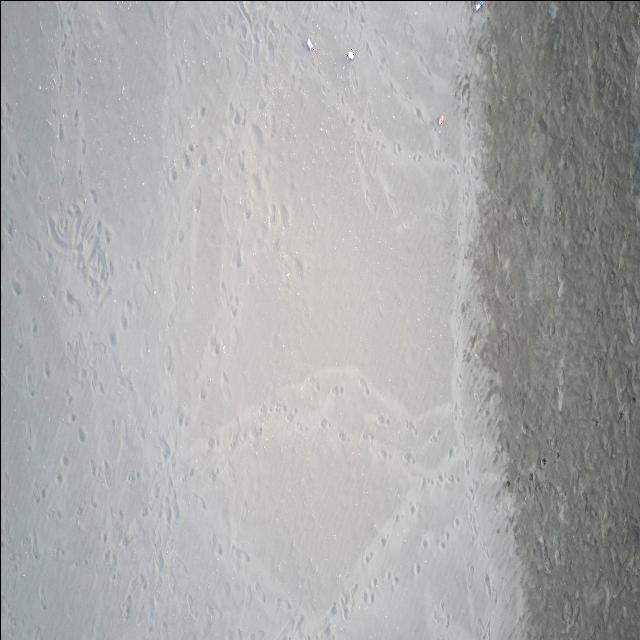Garbage: (473, 0, 484, 11), (307, 37, 312, 49), (437, 116, 444, 124), (347, 48, 352, 59)
